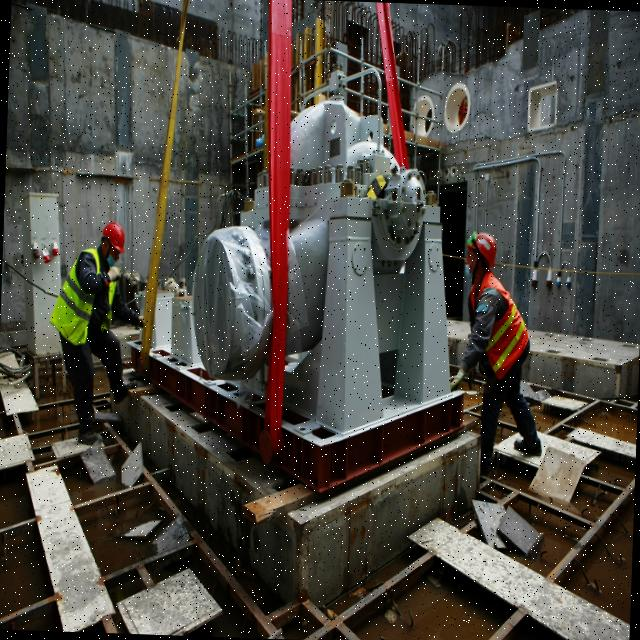Helmet: (464, 233, 499, 270), (99, 221, 127, 257)
Jacket: (467, 274, 529, 379), (61, 256, 118, 346)
